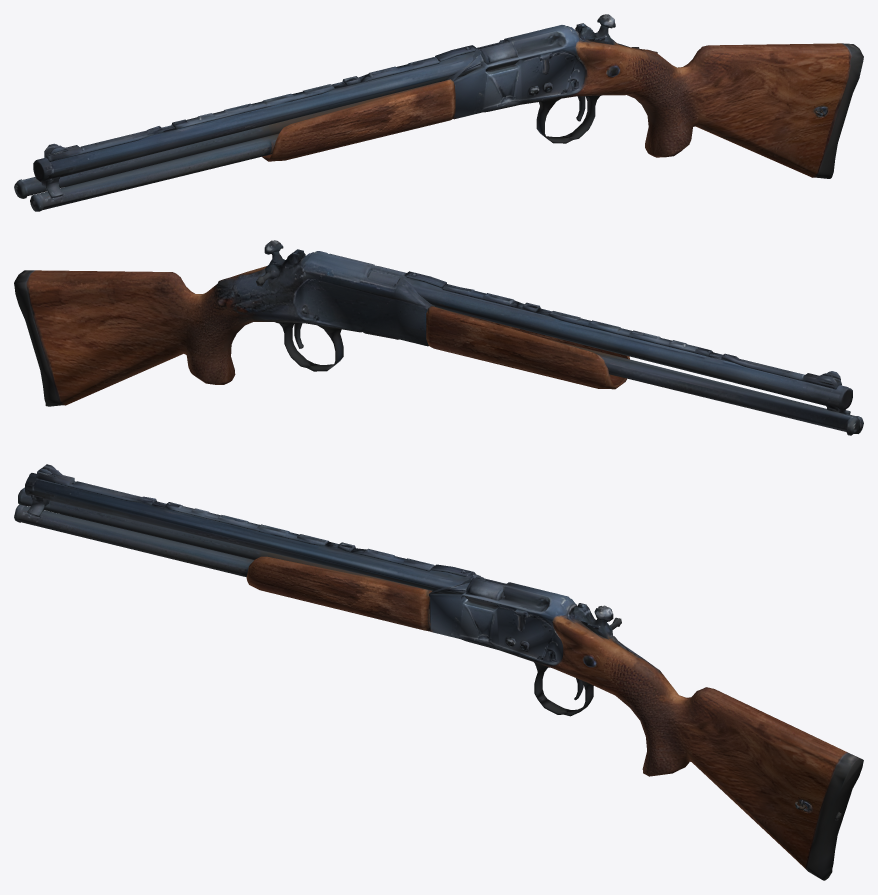
The picture shows the model from 3 angles, top to bottom: view 1: azimuth 30°, elevation 25°; view 2: azimuth 150°, elevation 25°; view 3: azimuth 330°, elevation 25°; orthographic projection.
Parts seen in each view (by area): view 1: tripo_node_3b0ad654-a1f0-4ded-9f12-6dabcd8ee40c; view 2: tripo_node_3b0ad654-a1f0-4ded-9f12-6dabcd8ee40c; view 3: tripo_node_3b0ad654-a1f0-4ded-9f12-6dabcd8ee40c.
Boxes of the visible parts, bbox=[...] form: tripo_node_3b0ad654-a1f0-4ded-9f12-6dabcd8ee40c: bbox=[14, 14, 863, 211]; tripo_node_3b0ad654-a1f0-4ded-9f12-6dabcd8ee40c: bbox=[14, 240, 863, 435]; tripo_node_3b0ad654-a1f0-4ded-9f12-6dabcd8ee40c: bbox=[14, 464, 863, 880].
Bounding box in the file's own units: 3.37 × 0.85 × 0.2174.
1 material, 1 textured.
